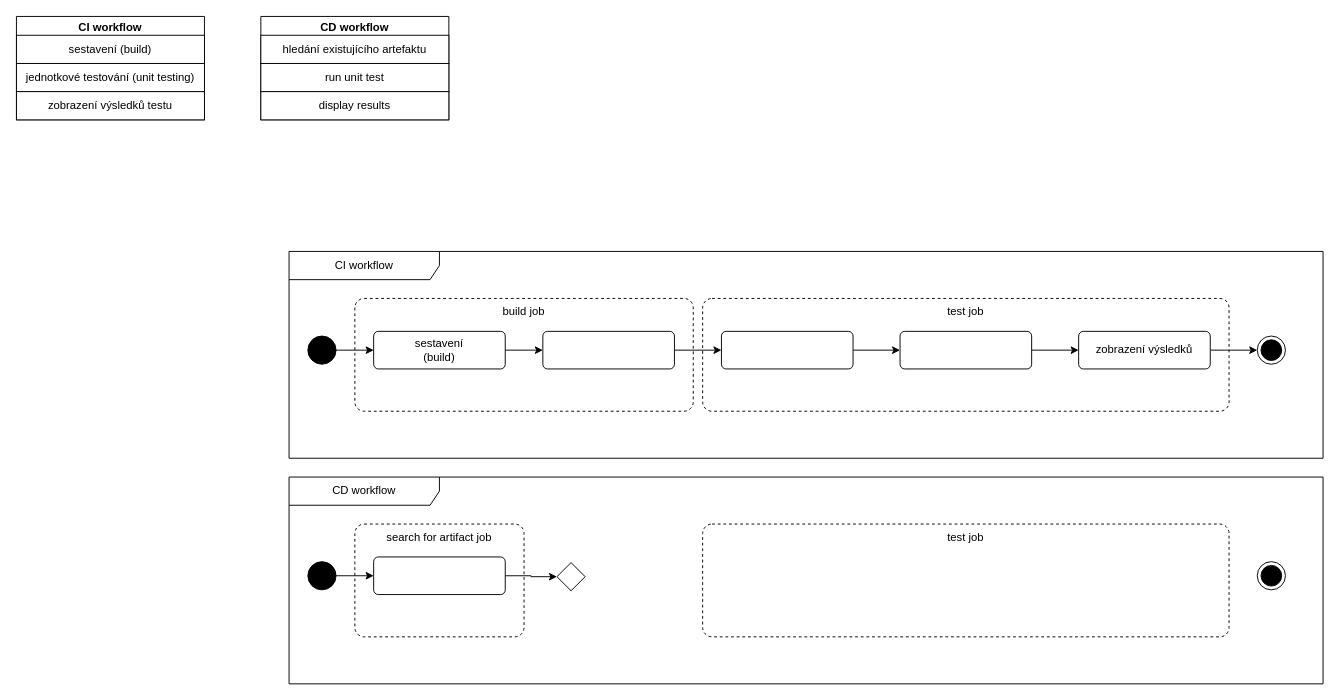
The diagram is 1340 pixels wide and 700 high, and some of its shapes have lost their labels. The shapes that lost their labels are listed below. From the top down, each one's centre as x and y in pixels, then its label:
At (x=608, y=349): "nahrání artefaktu".
At (x=787, y=349): "stažení artefaktu".
At (x=965, y=349): "spuštění testů".
At (x=439, y=575): "hledání již sestaveného projektu".
